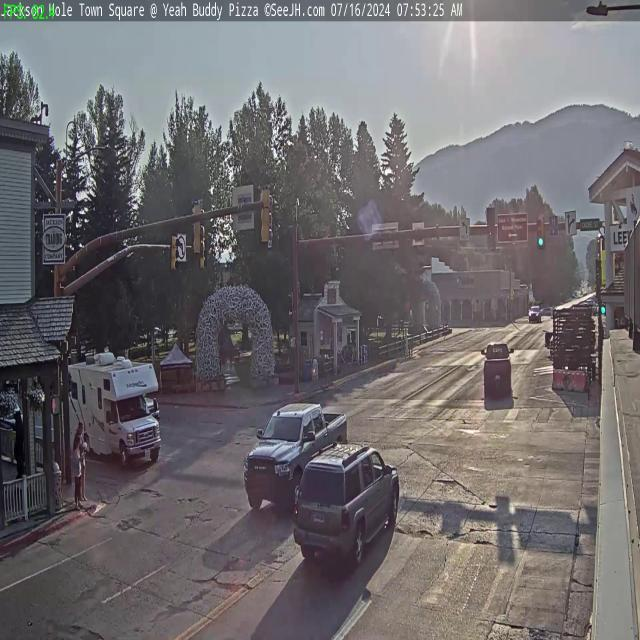person: (76, 419, 88, 502), (72, 436, 83, 504)
pickup: (246, 398, 347, 512), (484, 340, 514, 395)
suv: (296, 438, 402, 566)
traffic light: (259, 184, 272, 244), (190, 200, 203, 256), (486, 207, 496, 250), (170, 233, 180, 272), (536, 214, 546, 248)
truck: (64, 356, 160, 466)
